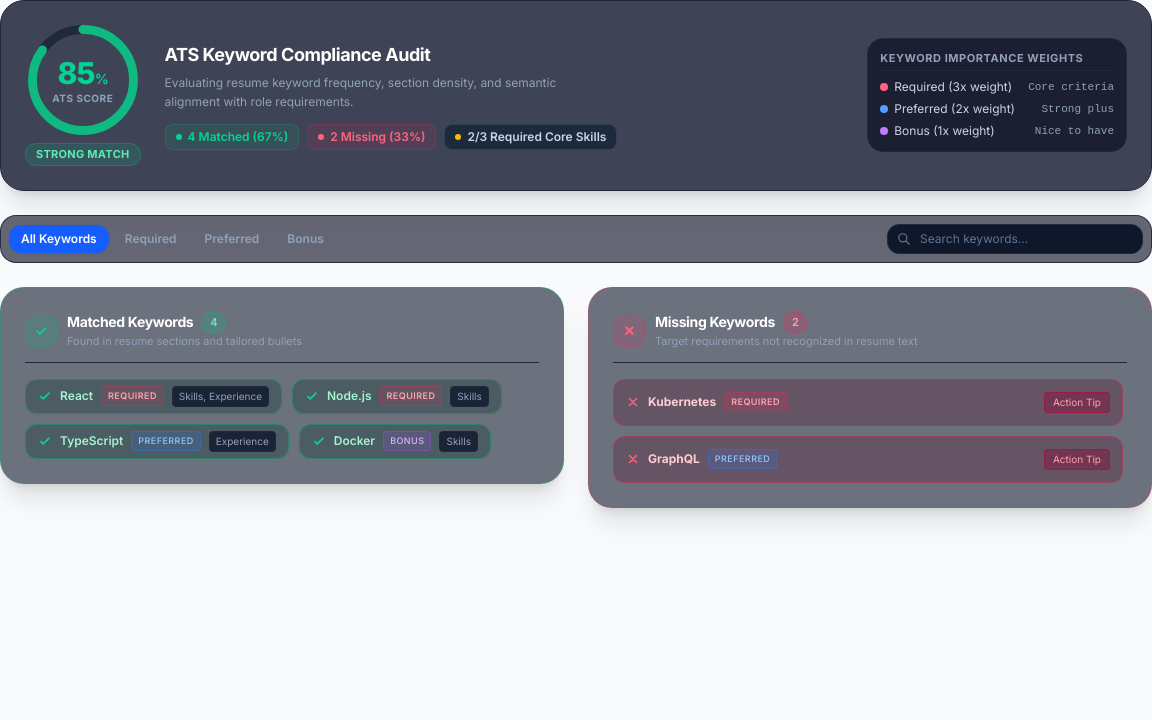
Scenario: ATSReport Component › filters keywords via the search input
In the field with placeholder "Search keywords...": x=1015, y=238 [887,224,1143,254], type "React"
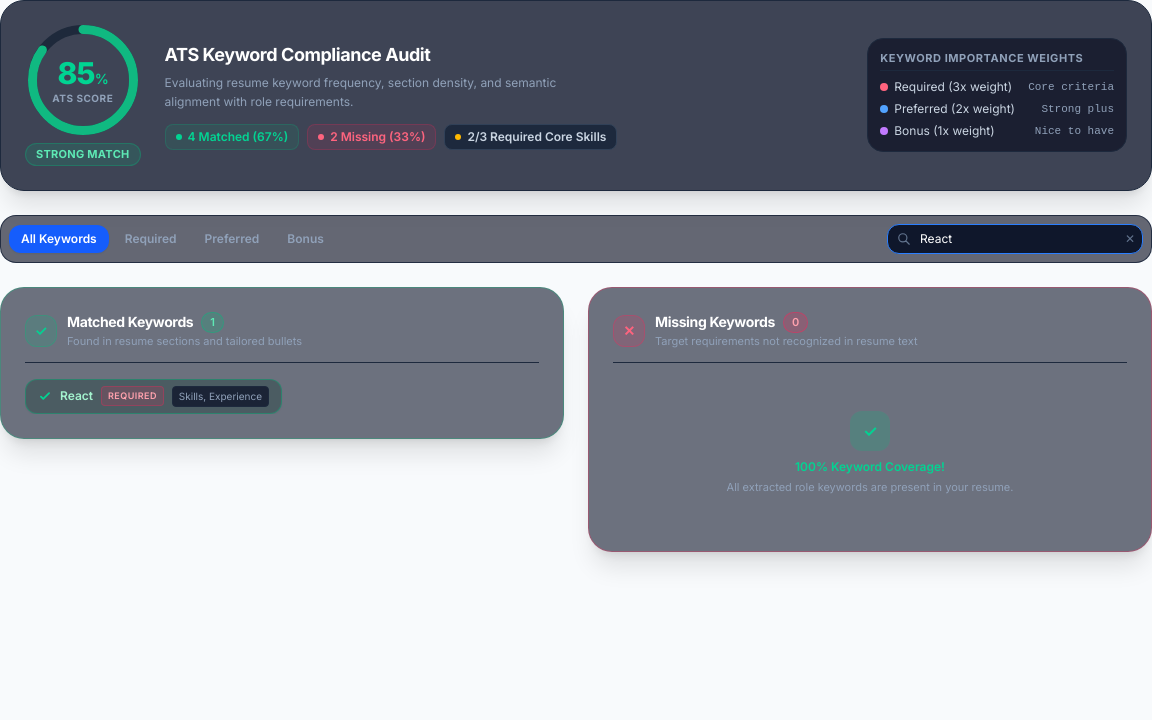
Expected: the text "React" is shown, [60,388,93,404]
Expected: the text "Node.js" is gone
Expected: the text "Docker" is gone
